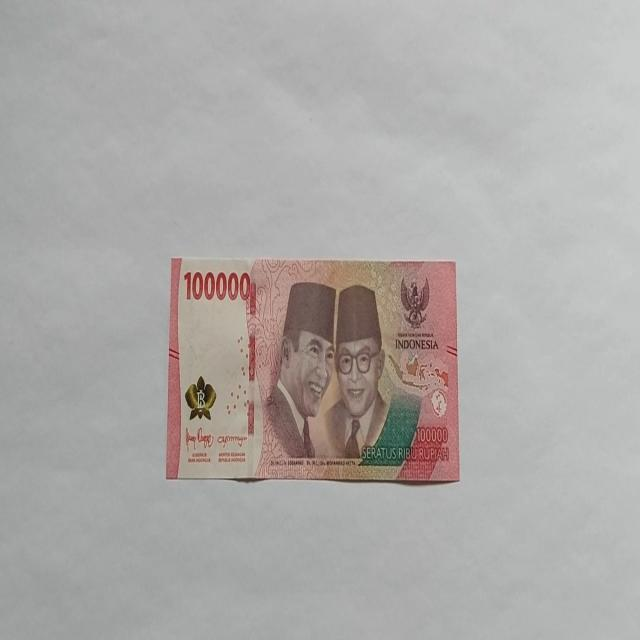seratus ribu rupiah: (166, 256, 460, 484)
